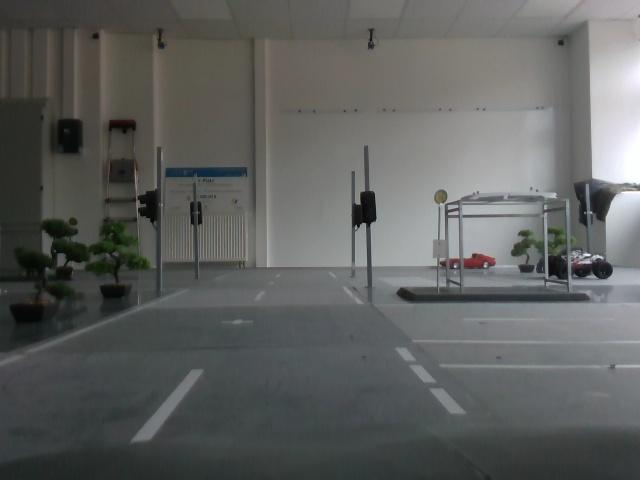car: (542, 251, 612, 283), (440, 249, 496, 275)
potted plant: (6, 246, 61, 328), (93, 219, 140, 305), (47, 212, 94, 272), (516, 229, 544, 276)
traffic light: (351, 179, 387, 237), (142, 182, 165, 228)
